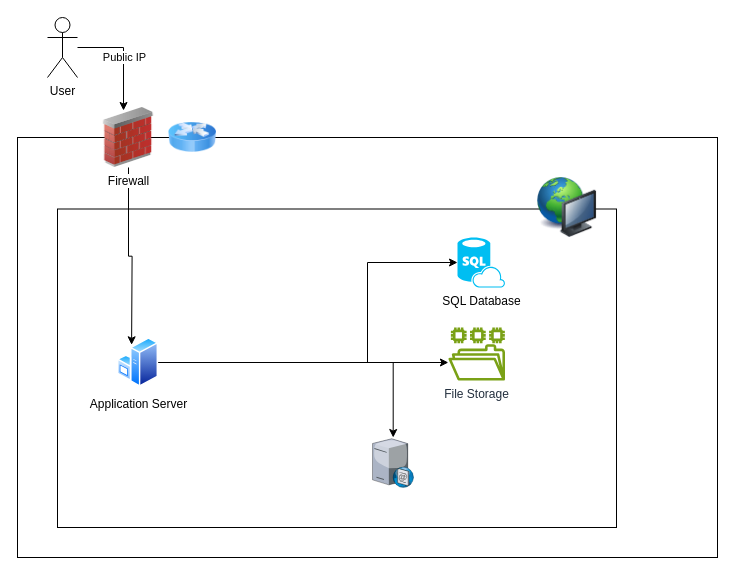
Some shapes in this 735 by 575 pixel diagram are drawn without their labels. The shapes that lost their labels are listed below. From the top down, each one's centre as x and y in pixels, then its label:
At [566,207]: "Company network".
At [392,462]: "SMTP Server".
